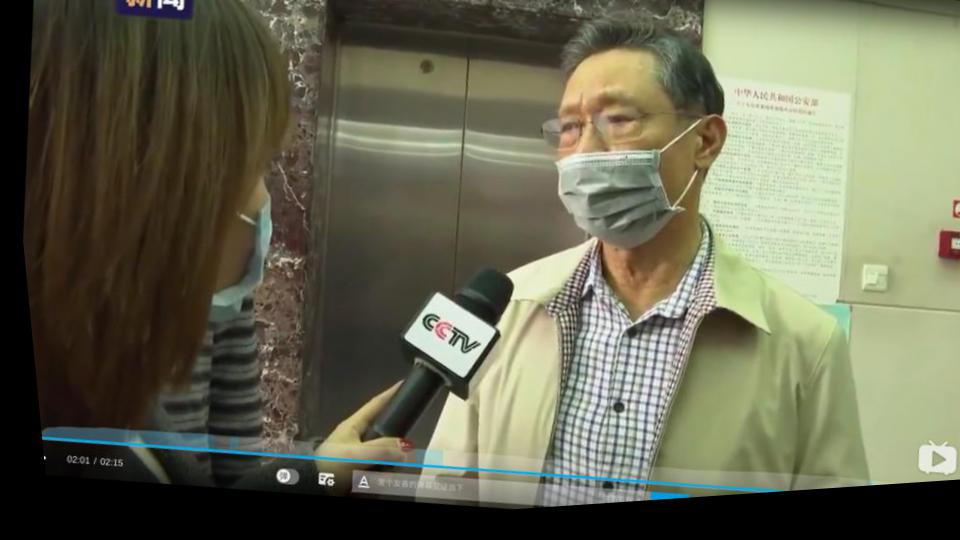WRONG: (532, 75, 690, 270)
